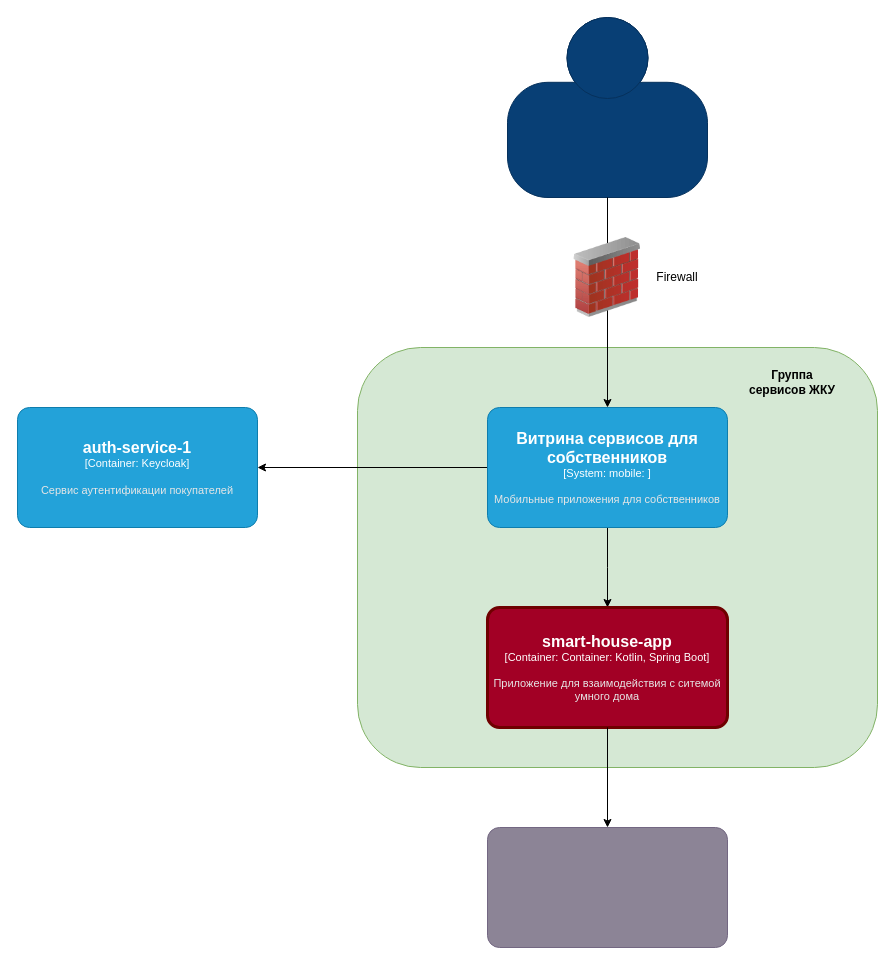
The diagram is 895 pixels wide and 965 high, and some of its shapes have lost their labels. The centre of each missing label's shape, as x and y in pixels:
Собственник [Person] Клиент: (607,107)
Умный дом [Software System] Интеллектуальный домофон и шлагбаум: (607,887)
